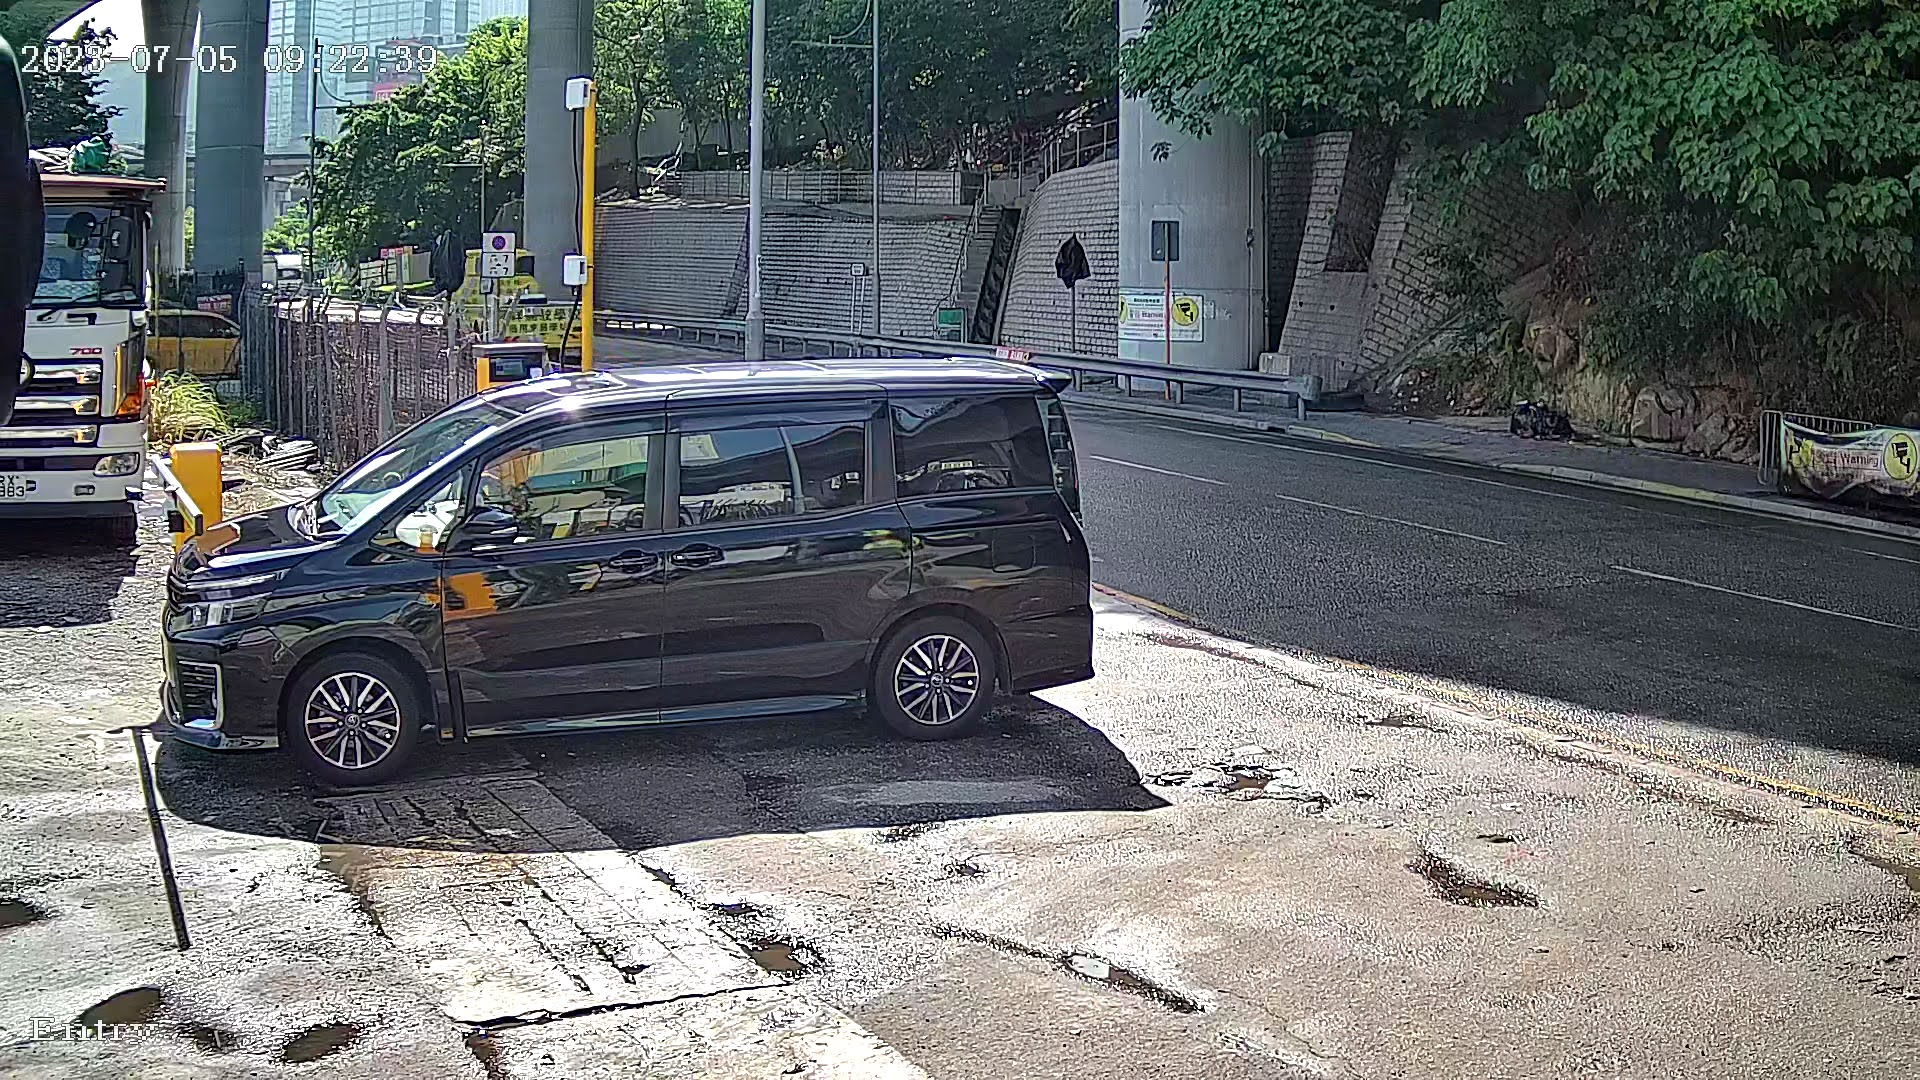privatecar: (112, 293, 1155, 851)
